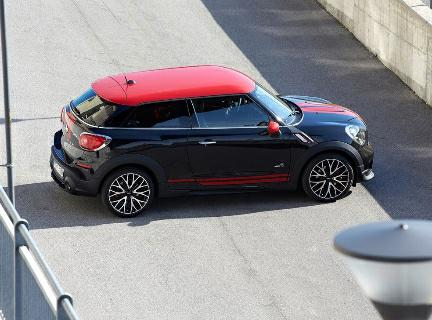MINI-JCWPACEMAN: (47, 61, 380, 214)
